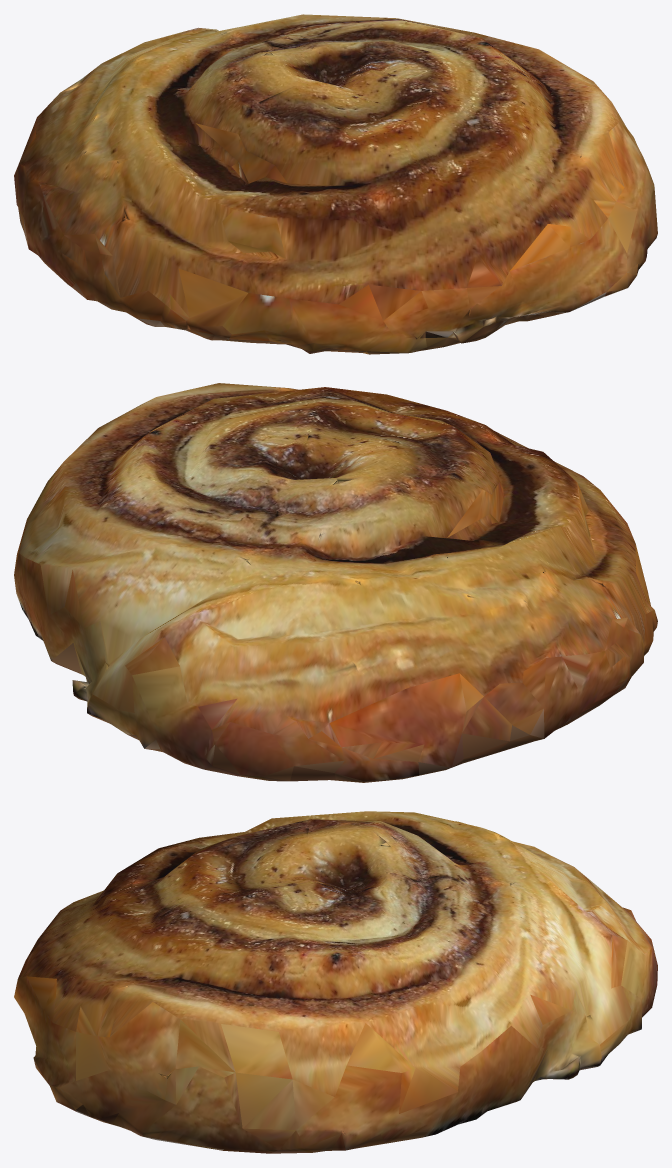
File: cinnamon_1764.obj
3 views of the same model, one above another, from view 1: azimuth 30°, elevation 25°; view 2: azimuth 150°, elevation 25°; view 3: azimuth 270°, elevation 25° (orthographic). The views are drawn at different scales.
Bounding box in the file's own units: 110 × 34 × 115.
Materials: 1 (1 with a texture image).
